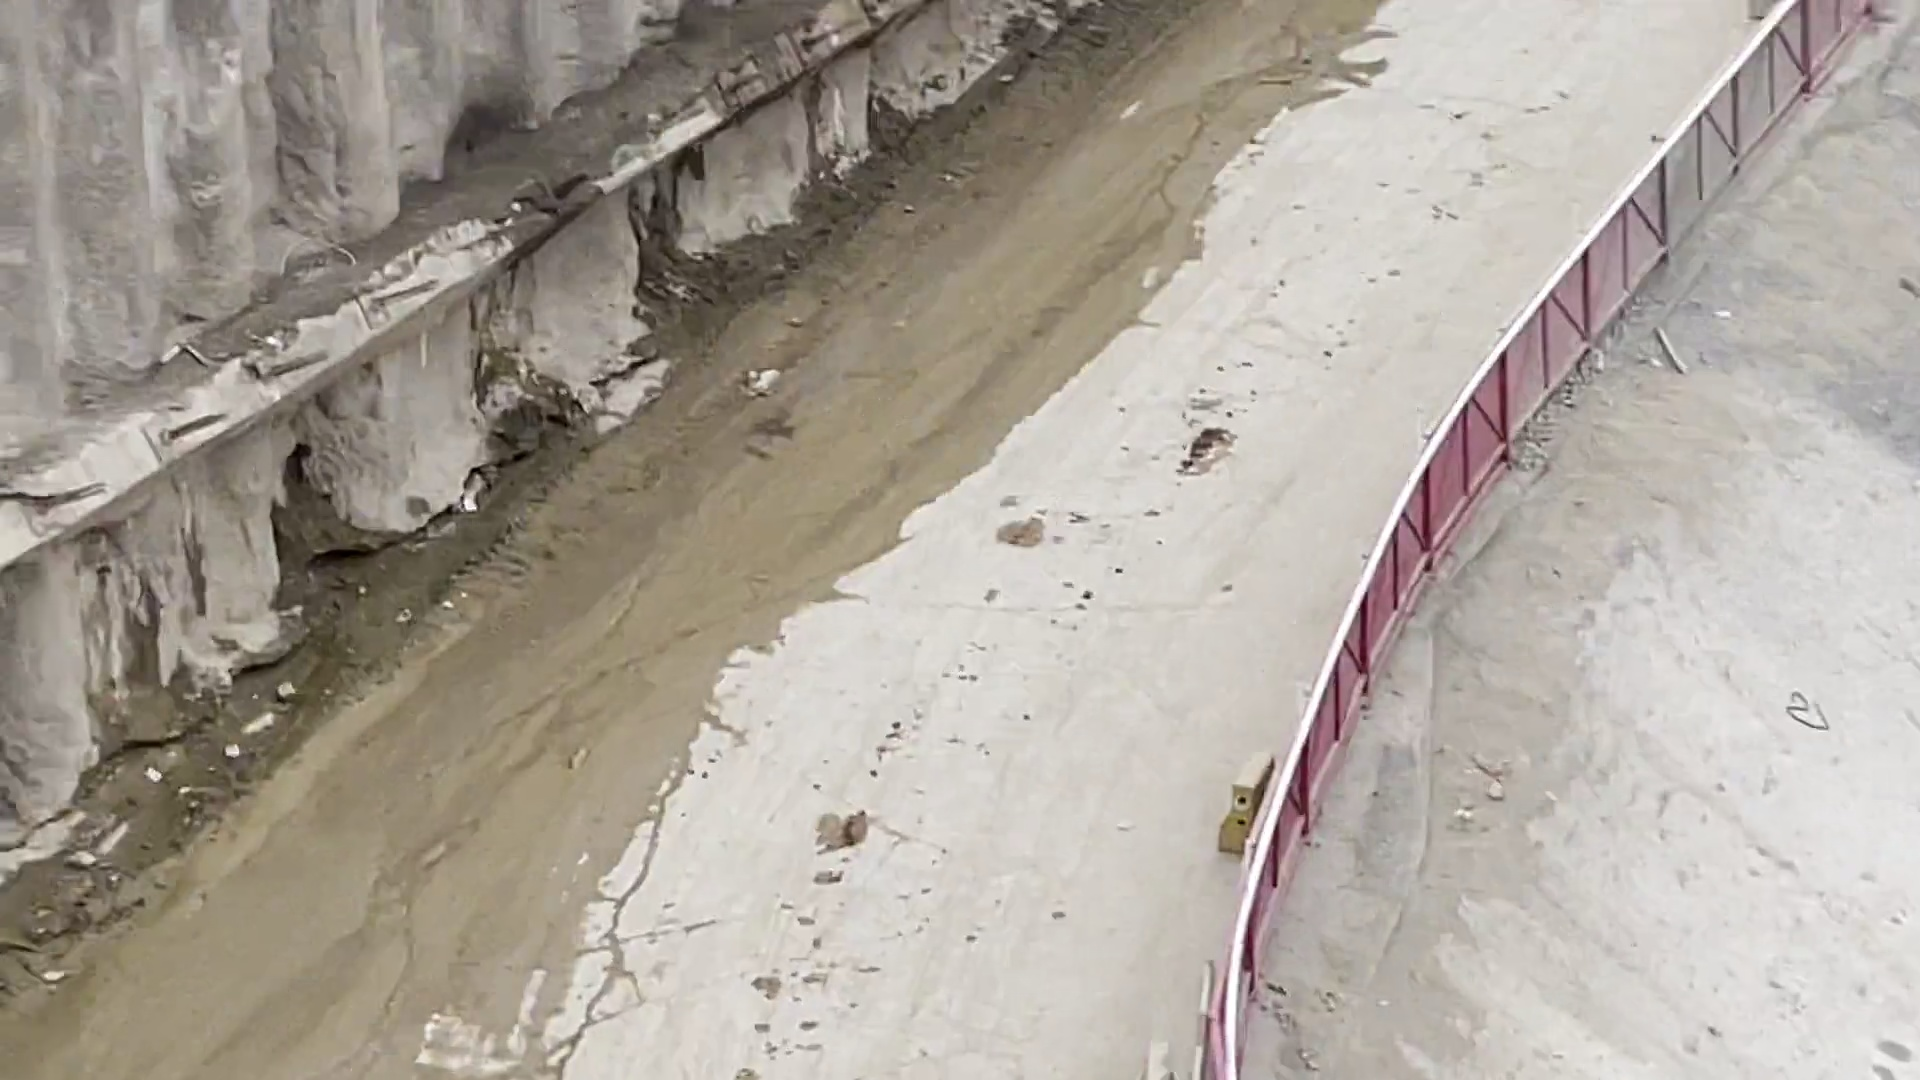fence: (1230, 1, 1873, 1080)
